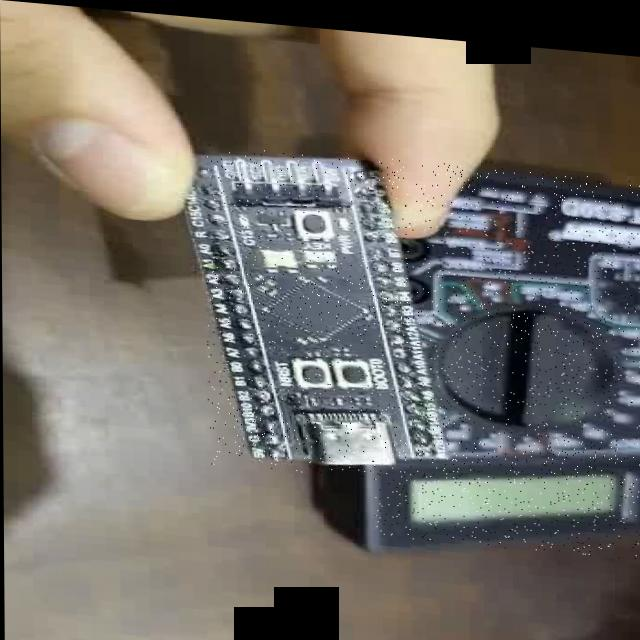multimeter: (372, 150, 640, 549)
stm32: (206, 140, 443, 477)
